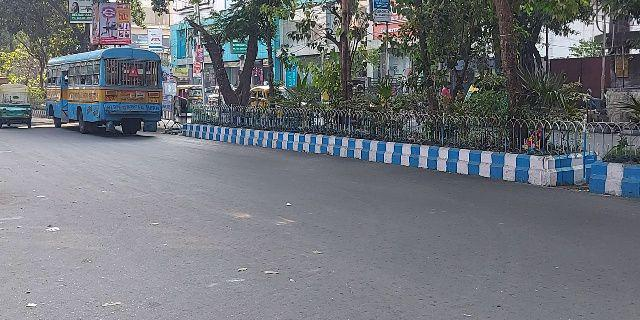Autorickshaw: (1, 81, 35, 129)
Bus: (45, 44, 166, 142)
